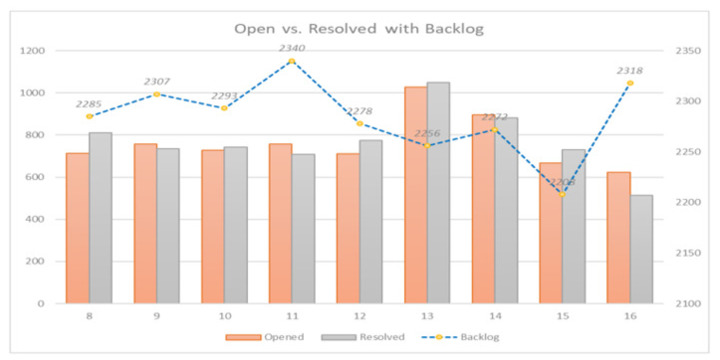OK_NoIssue: (18, 41, 707, 331)
